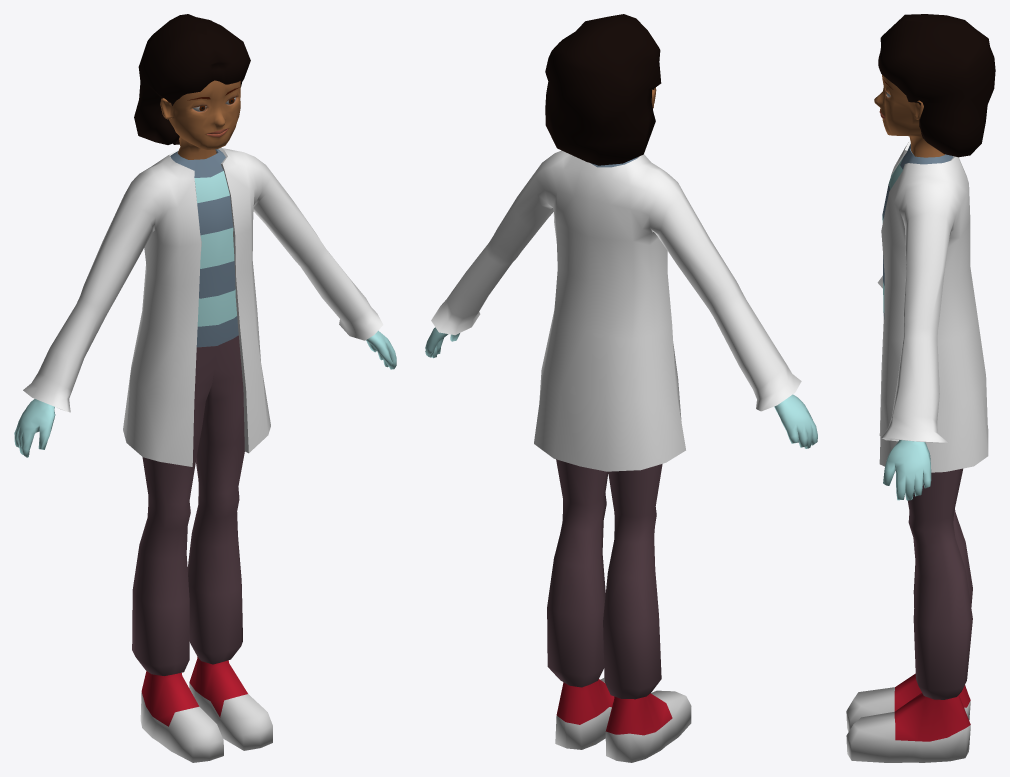
File: CorrectedNPC3.fbx
3 renders of one model, left to right at view 1: azimuth 30°, elevation 25°; view 2: azimuth 150°, elevation 25°; view 3: azimuth 270°, elevation 25°, orthographic. The views are drawn at different scales.
Visible parts, largest first — view 1: COAT, PANTS, SHOES, HAIR004, SHIRT0, HEAD, GLOVES; view 2: COAT, PANTS, HAIR004, SHOES, GLOVES; view 3: COAT, HAIR004, PANTS, SHOES, HEAD, GLOVES, SHIRT0.
Part boxes in pixels (x1,y1,x2,y2): COAT: (23, 147, 383, 466); PANTS: (132, 335, 244, 675); SHOES: (140, 656, 272, 762); HAIR004: (134, 14, 250, 144); SHIRT0: (170, 149, 238, 347); HEAD: (160, 80, 240, 159); GLOVES: (14, 330, 396, 457); COAT: (431, 150, 801, 471); PANTS: (547, 459, 662, 699); HAIR004: (545, 14, 661, 165); SHOES: (555, 678, 691, 762); GLOVES: (425, 327, 817, 448); COAT: (877, 141, 988, 472); HAIR004: (878, 14, 995, 157); PANTS: (908, 468, 972, 699); SHOES: (846, 673, 970, 762); HEAD: (874, 75, 944, 157); GLOVES: (883, 440, 931, 500); SHIRT0: (882, 145, 953, 319).
Size of the model in its own units: 187 by 336 by 62.77.
